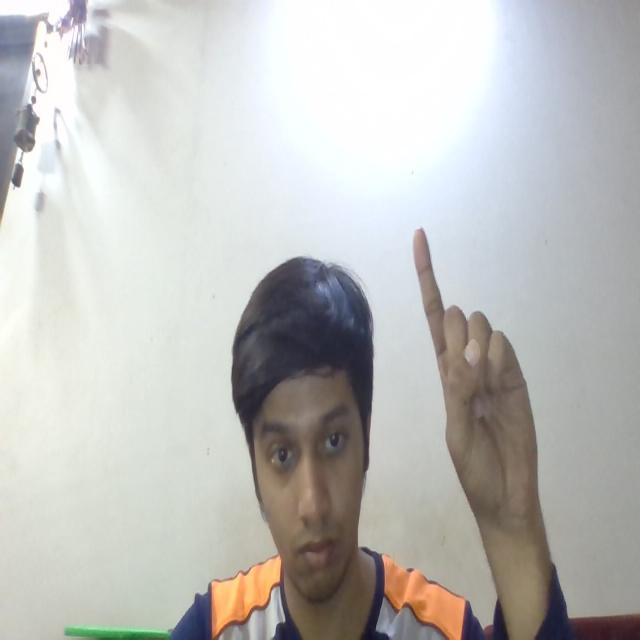Z: (398, 207, 570, 563)
